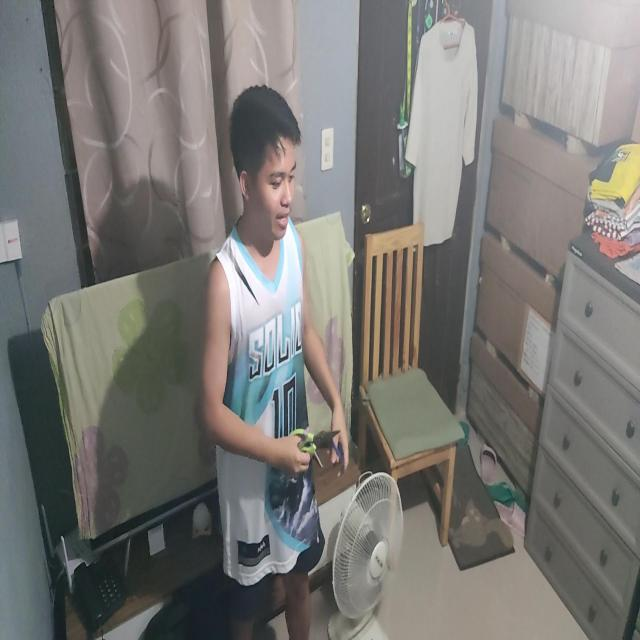scissor: (288, 428, 341, 464)
